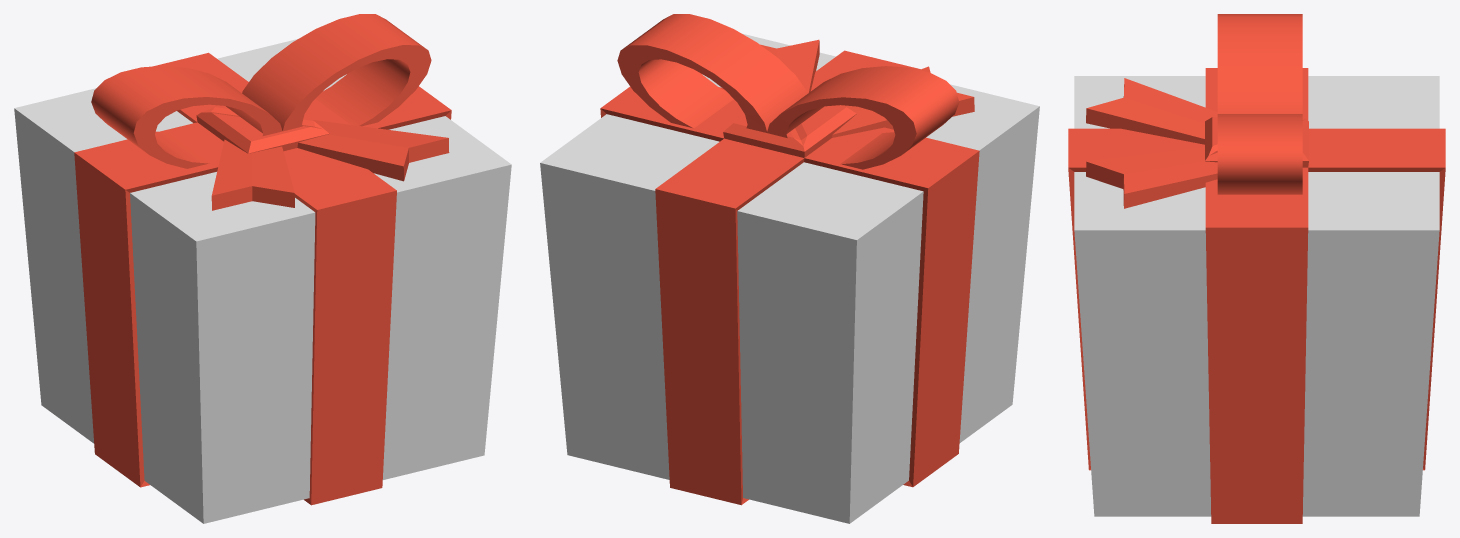
Rendered from Present.fbx.
3 renders of one model, left to right at view 1: azimuth 30°, elevation 25°; view 2: azimuth 150°, elevation 25°; view 3: azimuth 270°, elevation 25°, orthographic.
Parts seen in each view (by area): view 1: Present; view 2: Present; view 3: Present.
Boxes of the visible parts, <box> form: Present: <box>14,14,511,523</box>; Present: <box>540,14,1039,523</box>; Present: <box>1068,14,1445,523</box>.
Bounding box in the file's own units: 93.5 × 103 × 93.44.
